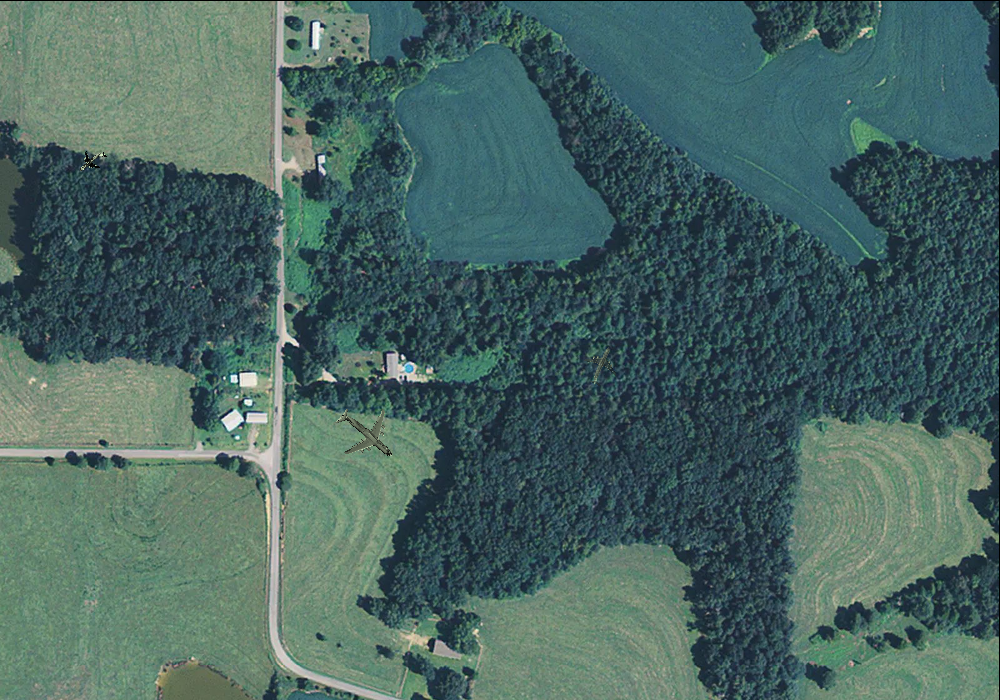plane: (319, 389, 411, 481), (575, 339, 627, 392), (71, 141, 112, 181)
